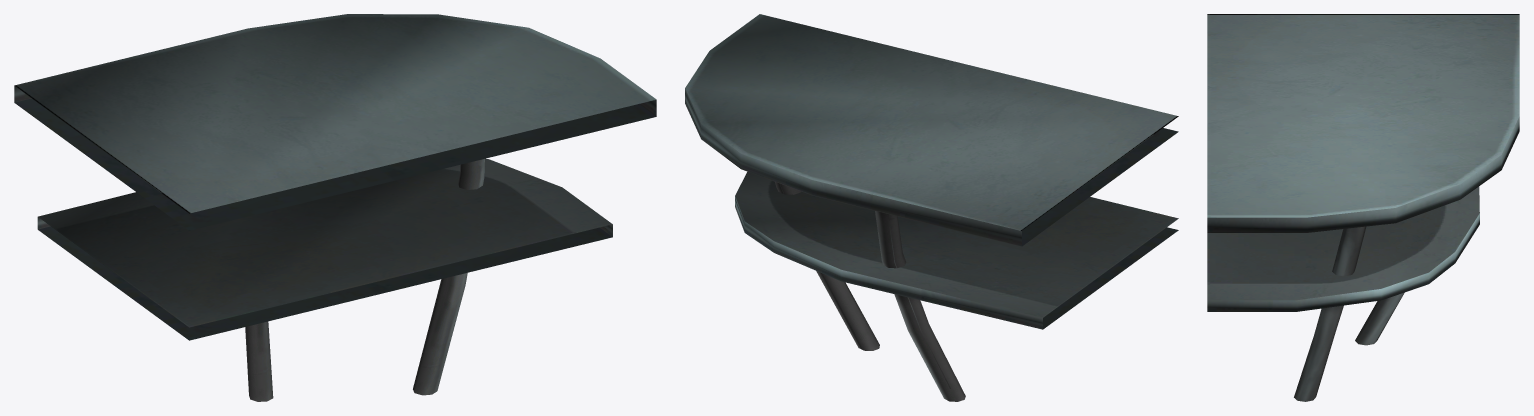
Rendered from table_corner.glb.
3 views of the same model, side by side, from view 1: azimuth 30°, elevation 25°; view 2: azimuth 150°, elevation 25°; view 3: azimuth 270°, elevation 25° (orthographic). The views are drawn at different scales.
Parts seen in each view (by area): view 1: Box17; view 2: Box17; view 3: Box17.
Part boxes in pixels (x1=…): Box17: x1=14, y1=14, x2=656, y2=401; Box17: x1=685, y1=14, x2=1178, y2=401; Box17: x1=1207, y1=14, x2=1519, y2=401.
Bounding box in the file's own units: 85.8 × 50.44 × 55.67.
Materials: 1 (1 with a texture image).
